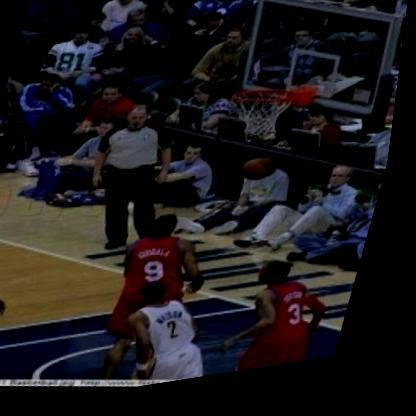basketball: (239, 154, 289, 198)
